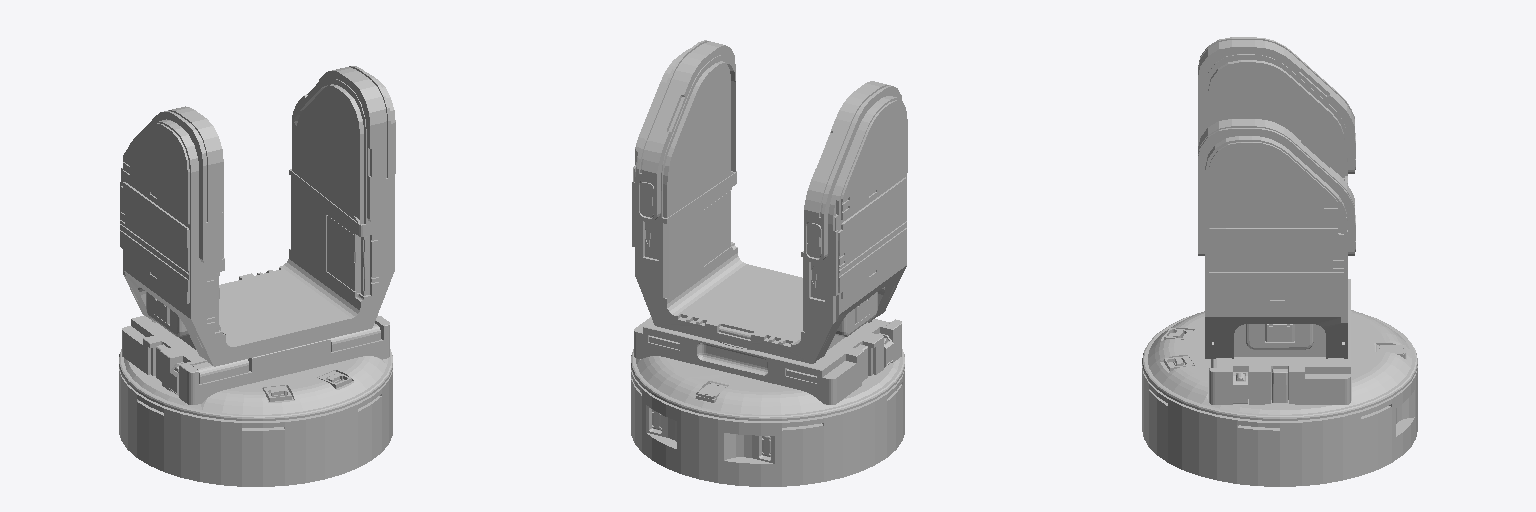
The model's file is Mainobj.obj.
The picture shows the model from 3 angles: view 1: azimuth 30°, elevation 25°; view 2: azimuth 150°, elevation 25°; view 3: azimuth 270°, elevation 25°; orthographic projection.
Parts seen in each view (by area): view 1: laser_cannon_turret_g_laser_cannon_turret; view 2: laser_cannon_turret_g_laser_cannon_turret; view 3: laser_cannon_turret_g_laser_cannon_turret.
Part boxes in pixels (bbox=[...]): laser_cannon_turret_g_laser_cannon_turret: bbox=[119, 66, 395, 486]; laser_cannon_turret_g_laser_cannon_turret: bbox=[631, 40, 907, 486]; laser_cannon_turret_g_laser_cannon_turret: bbox=[1142, 37, 1417, 486].
Bounding box in the file's own units: 1.08 × 1.5 × 1.09.